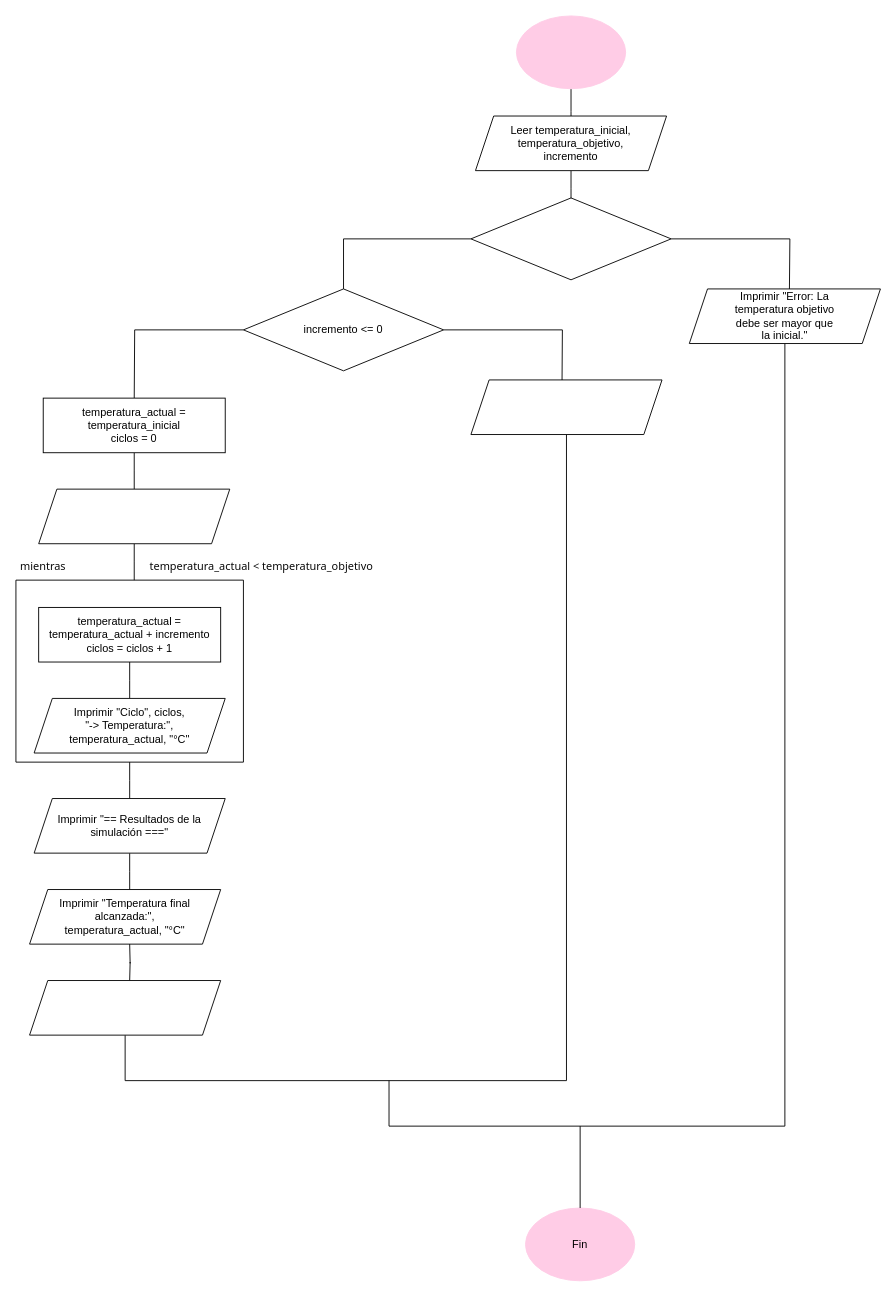
The diagram is 896 pixels wide and 1297 high, and some of its shapes have lost their labels. The centre of each missing label's shape, as x and y in pixels:
Imprimir "== Inicio de la simulación de calentamiento ==": point (134, 516)
Imprimir "Error: El incremento debe ser mayor que cero.": point (566, 407)
Imprimir "Total de ciclos ejecutados:", ciclos: point (125, 1007)
Inicio: point (571, 52)
temperatura_objetivo <= temperatura_inicial: point (570, 238)
